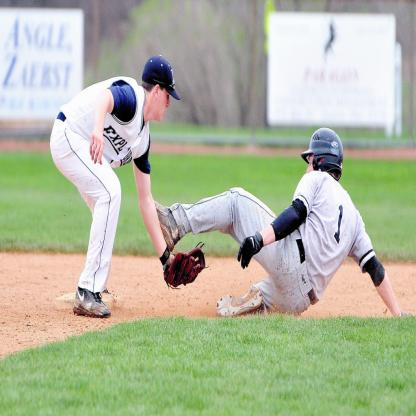Helmet: (312, 131, 348, 175)
